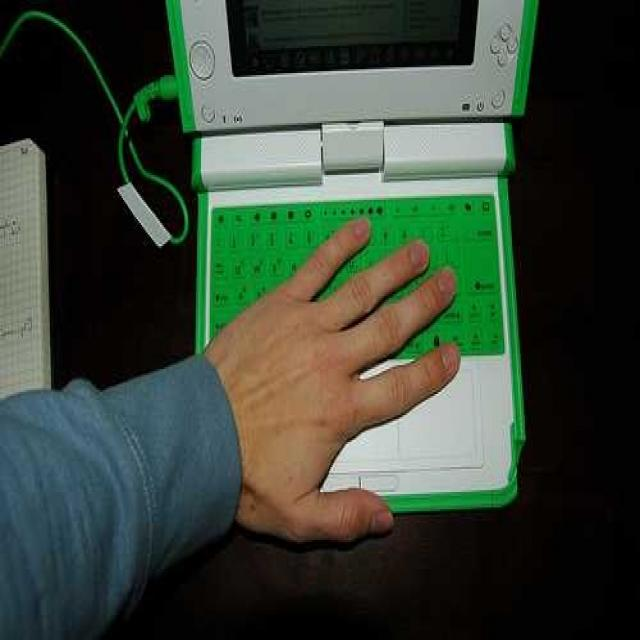laptop: (153, 3, 560, 507)
